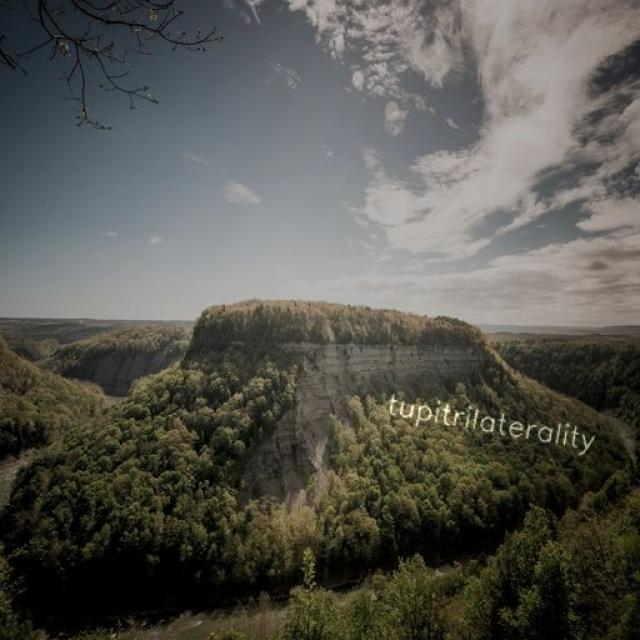watermark: (378, 390, 614, 455)
